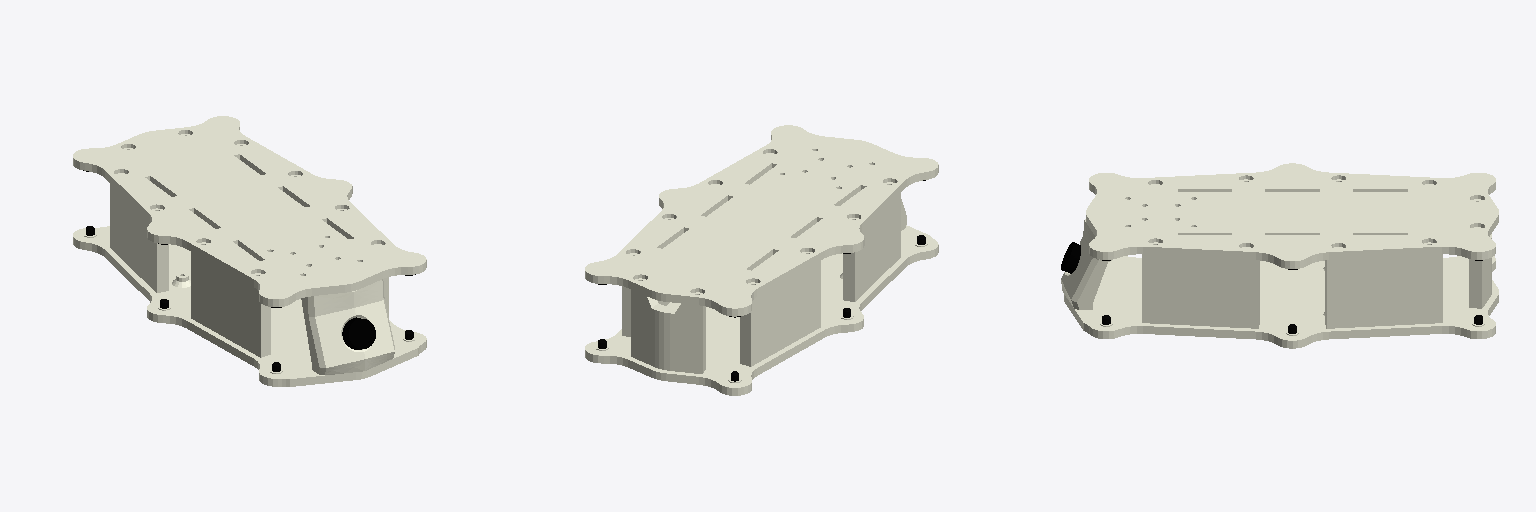
File: body.obj
3 renders of one model, left to right at view 1: azimuth 30°, elevation 25°; view 2: azimuth 150°, elevation 25°; view 3: azimuth 270°, elevation 25°, orthographic.
Visible parts, largest first — view 1: Solid1:3, Solid1, Solid1:1, Solid1:2; view 2: Solid1:3, Solid1; view 3: Solid1:3, Solid1, Solid1:1.
Boxes of the visible parts, <box> form: Solid1:3: <box>73,116,426,306</box>; Solid1: <box>73,184,426,386</box>; Solid1:1: <box>301,279,394,374</box>; Solid1:2: <box>342,317,375,349</box>; Solid1:3: <box>585,125,938,316</box>; Solid1: <box>585,193,938,395</box>; Solid1:3: <box>1086,163,1498,268</box>; Solid1: <box>1064,234,1498,348</box>; Solid1:1: <box>1061,219,1107,309</box>.
Bounding box in the file's own units: 106 × 44 × 200.